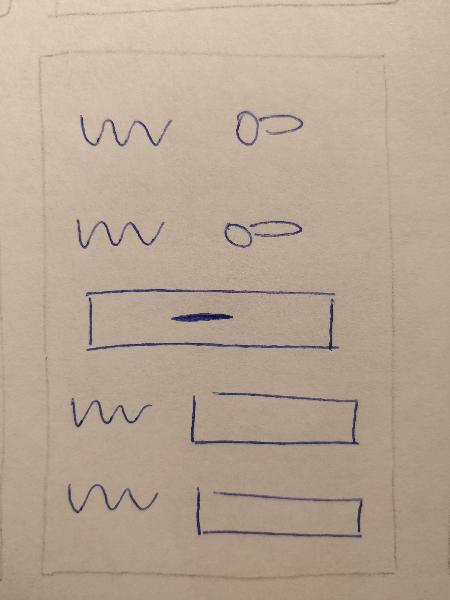button: (78, 280, 343, 359)
switch: (212, 204, 310, 253), (222, 101, 312, 152)
text: (66, 101, 187, 158), (63, 206, 171, 260), (58, 468, 163, 520), (61, 385, 157, 429)
text_input: (184, 380, 371, 461), (187, 479, 376, 551)
